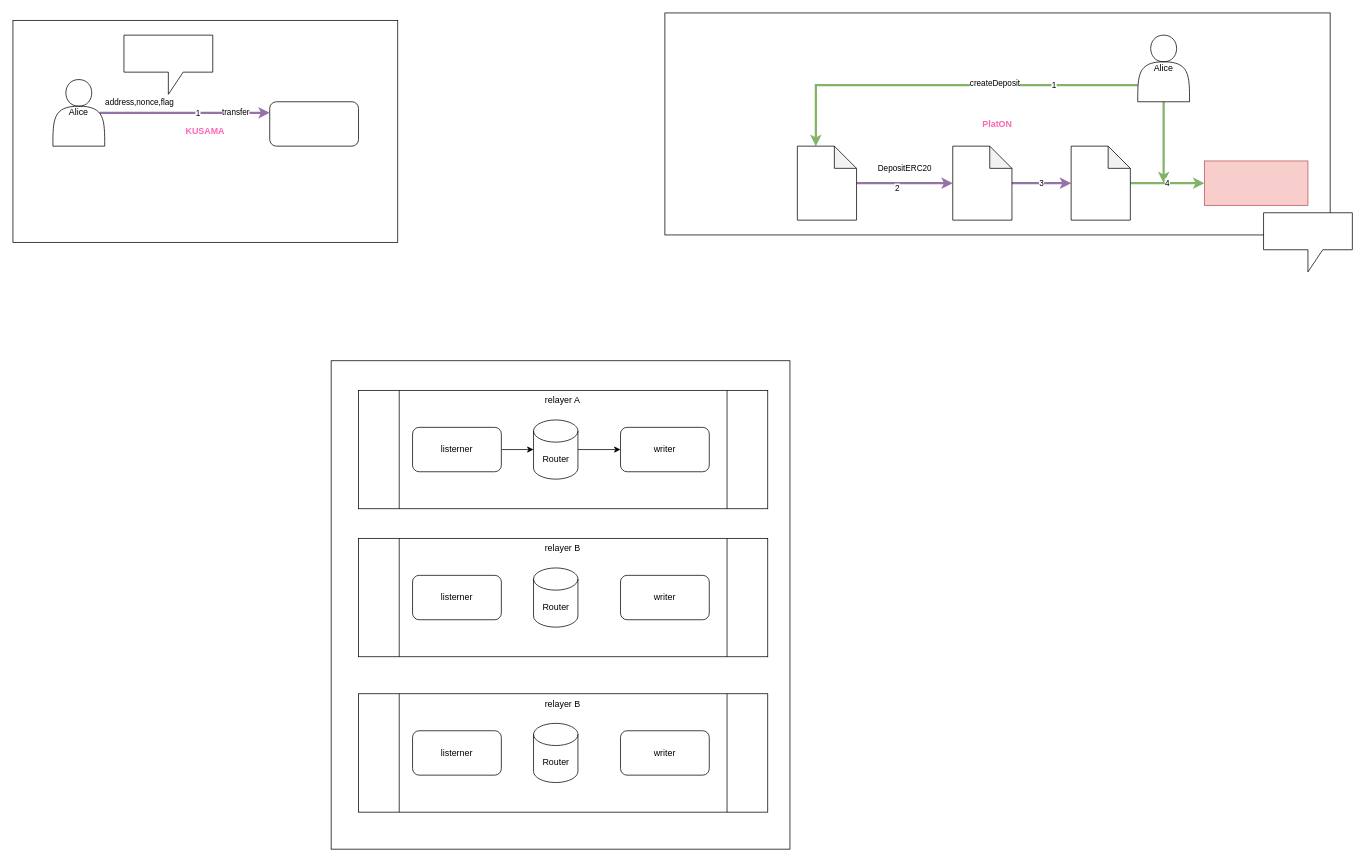
The diagram is 1365 pixels wide and 862 high, and some of its shapes have lost their labels. The centre of each missing label's shape, as x and y in pixels:
"Bridge" goes at pixel 827 182.
"DepositEvent" goes at pixel 1307 242.
"Erc20" goes at pixel 1100 182.
"ERC20Handler" goes at pixel 982 182.
"ERC20HandlerAddress" goes at pixel 1256 182.
"MultiSignAddress" goes at pixel 314 123.
"recharge/redeem" goes at pixel 168 64.
